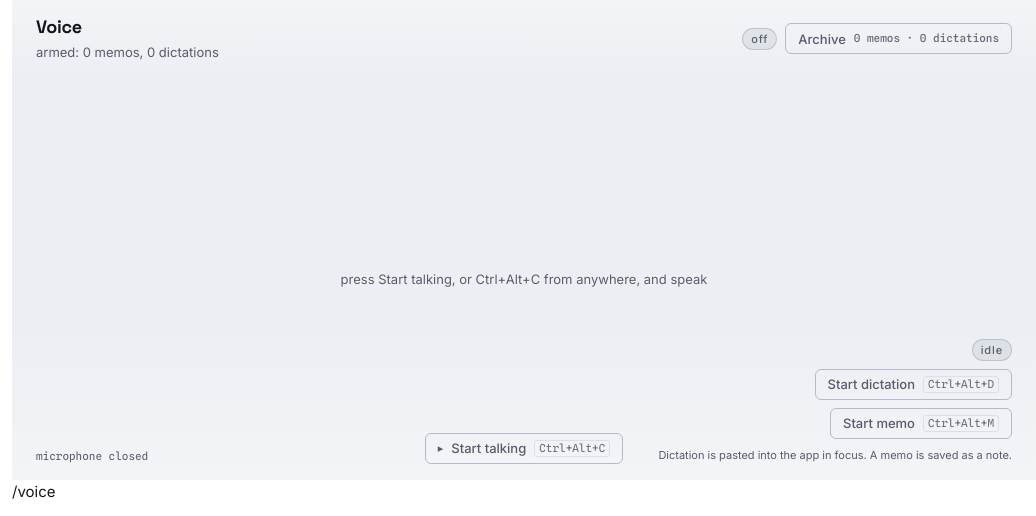
Test case: Voice — the spoken conversation › does not open the microphone when no conversation could be opened
Click the button "Start talking Ctrl+Alt+C". click: (524, 448)
box: [425,433,623,464]
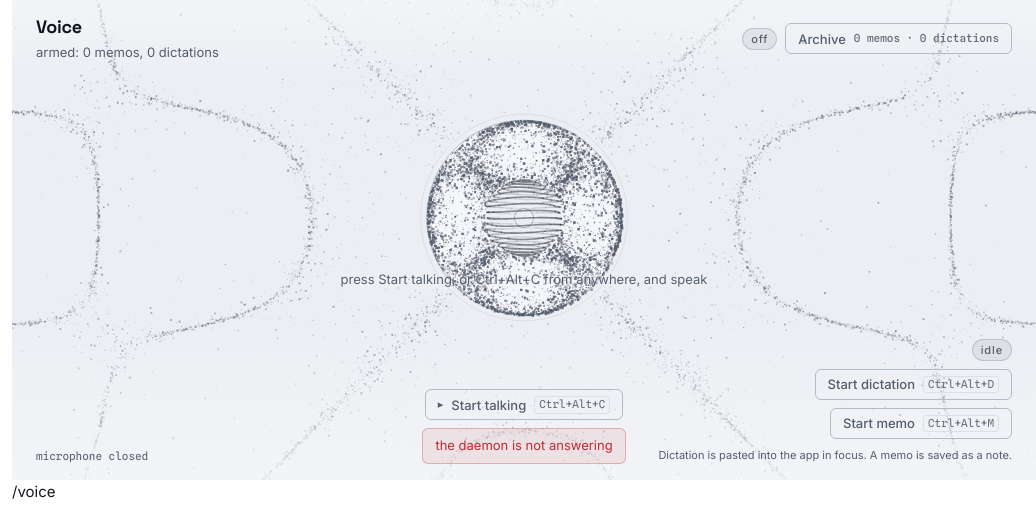
Now the text "the daemon is not answering" is shown, box [435,438,613,455]
